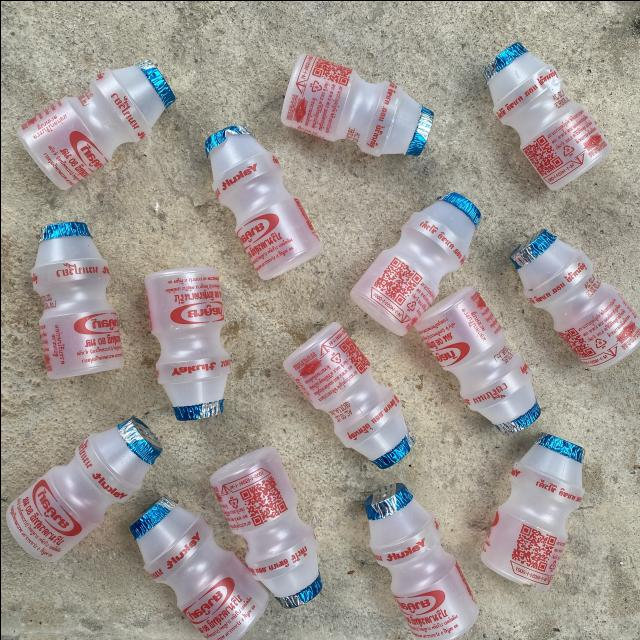plastik: (5, 416, 161, 560), (16, 60, 174, 189), (131, 498, 268, 640), (283, 322, 413, 468), (350, 191, 480, 334), (484, 42, 610, 189), (414, 286, 539, 433), (509, 228, 640, 368), (209, 445, 321, 607), (204, 124, 321, 279), (364, 482, 477, 640), (480, 433, 583, 589), (280, 54, 433, 156), (30, 220, 122, 378), (144, 266, 230, 420)
